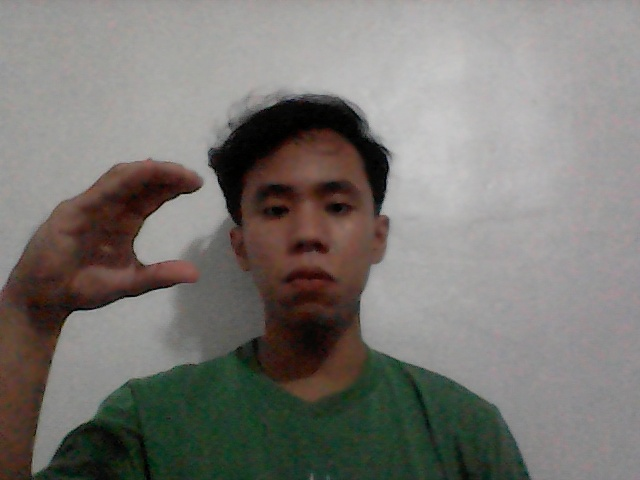C: (15, 131, 216, 346)
